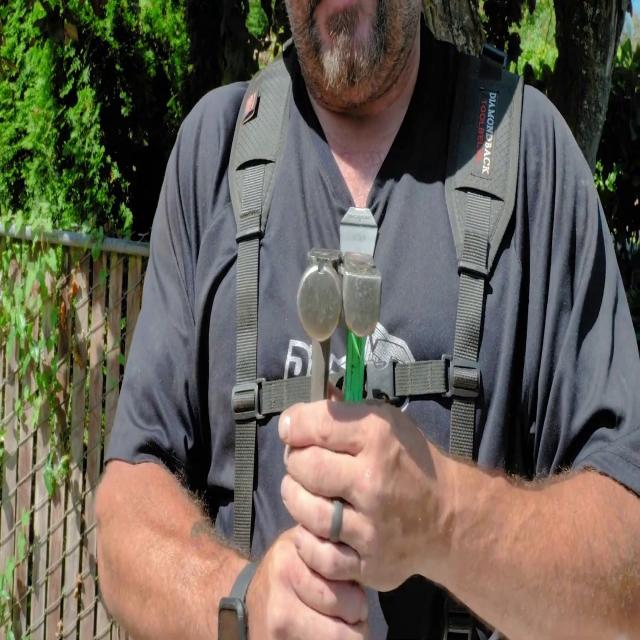hammer: (298, 245, 343, 404), (344, 249, 382, 403)
